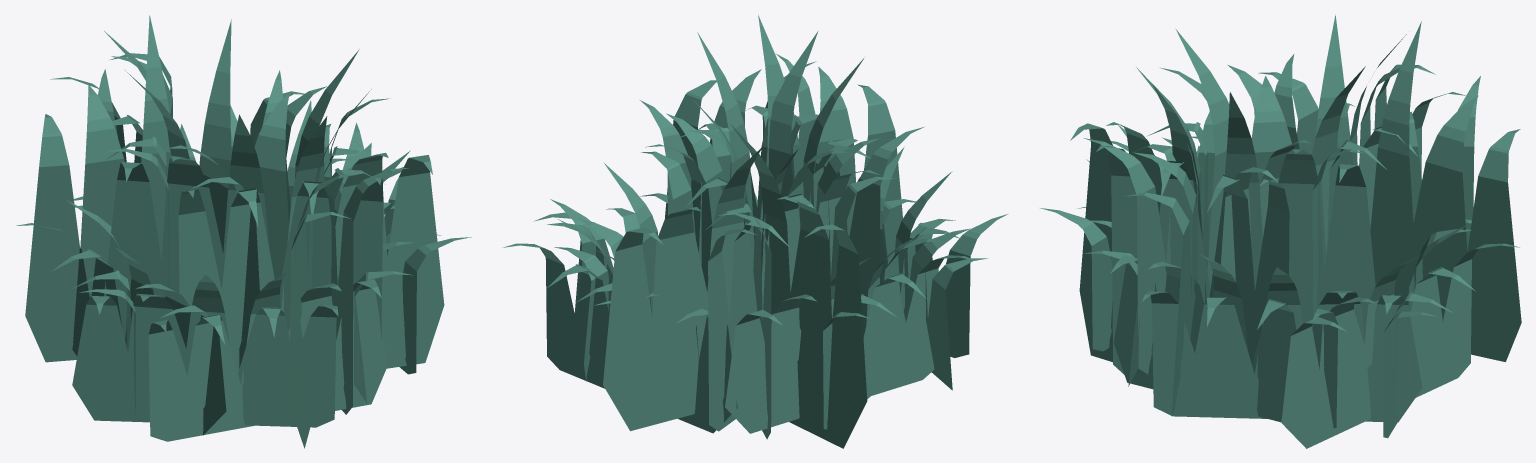
File: Tall Grass.glb
3 renders of one model, left to right at view 1: azimuth 30°, elevation 25°; view 2: azimuth 150°, elevation 25°; view 3: azimuth 270°, elevation 25°, orthographic. The views are drawn at different scales.
Visible parts, largest first — view 1: Plane; view 2: Plane; view 3: Plane.
Part boxes in pixels (bbox=[...]): Plane: bbox=[16, 15, 471, 448]; Plane: bbox=[502, 14, 1007, 448]; Plane: bbox=[1040, 14, 1521, 448].
Bounding box in the file's own units: 1.78 × 1.36 × 1.83.
